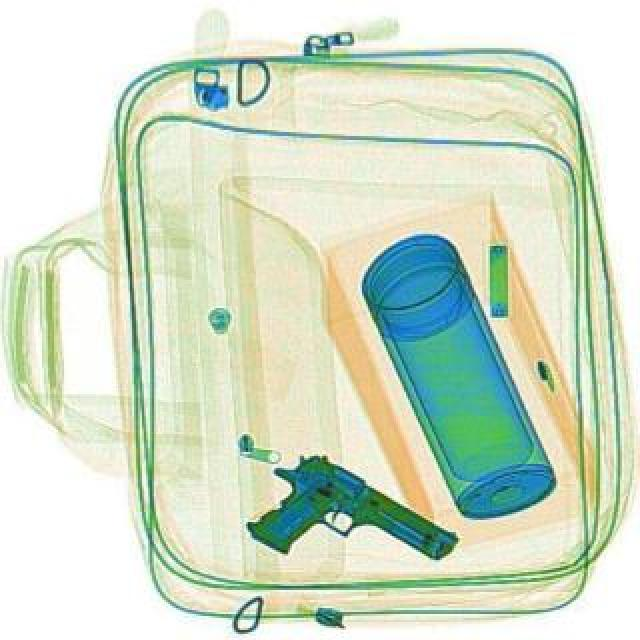gun: (230, 438, 458, 624)
